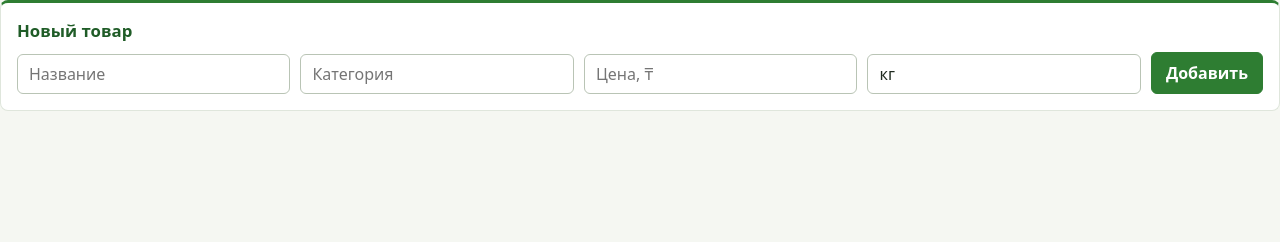
AddProductForm › показывает детали ошибок валидации от API
In the field with placeholder "Название": (154,74) [17, 54, 290, 94], type "Мёд"
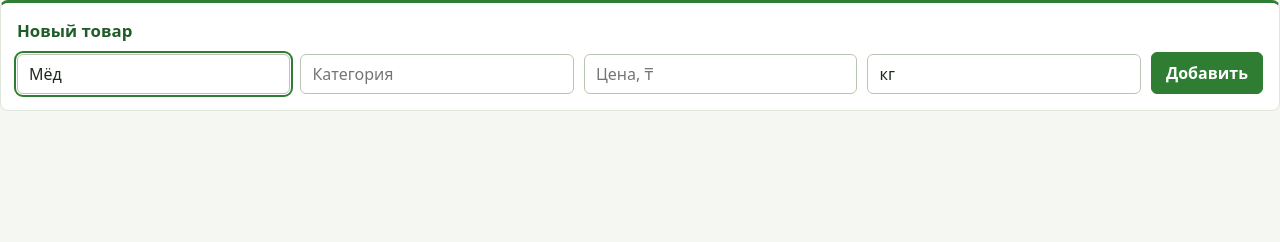
In the number field with placeholder "Цена, ₸": (721,74) [584, 54, 858, 94], type "0"
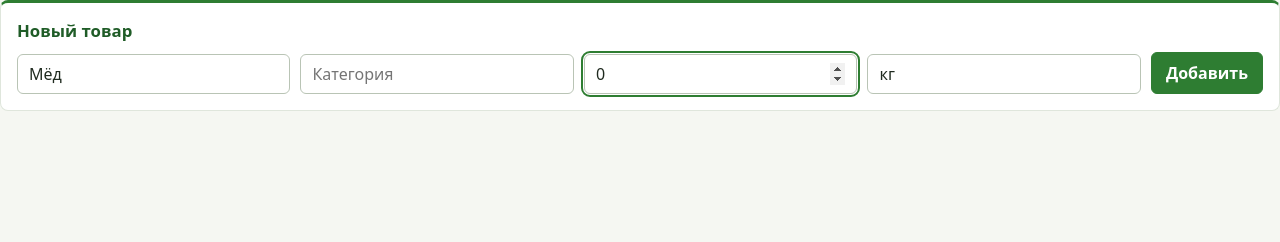
Click the button "Добавить": (1207,73) [1151, 52, 1263, 94]
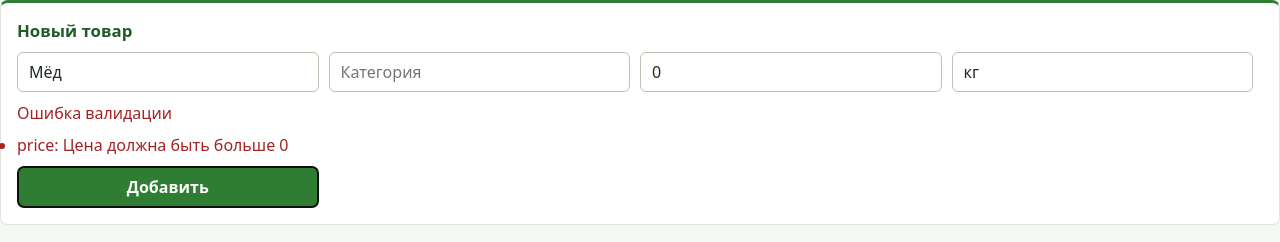
Now the list item "price: Цена должна быть больше 0" is shown, box [17, 134, 288, 156]
